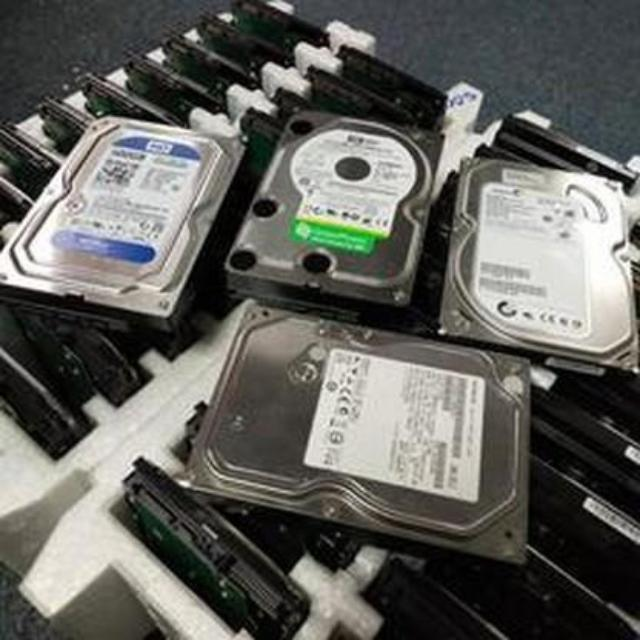DISK: (184, 298, 538, 564), (0, 118, 243, 316), (435, 146, 640, 372), (228, 106, 443, 312)
